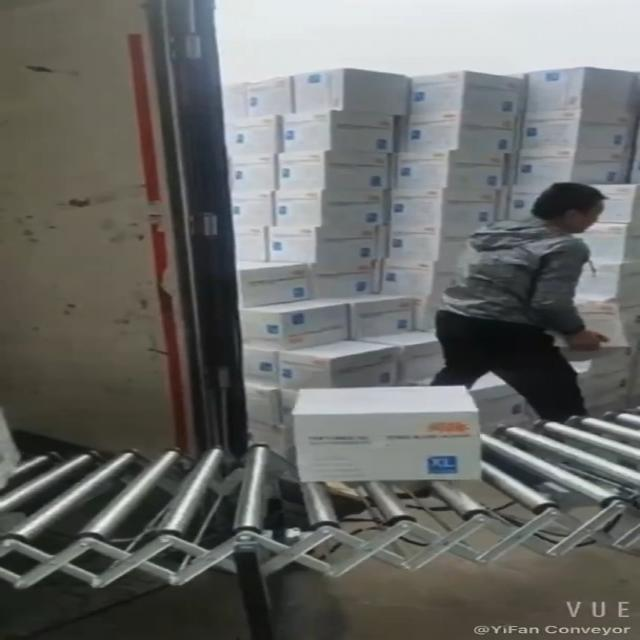Convoyeur: (0, 399, 640, 587)
